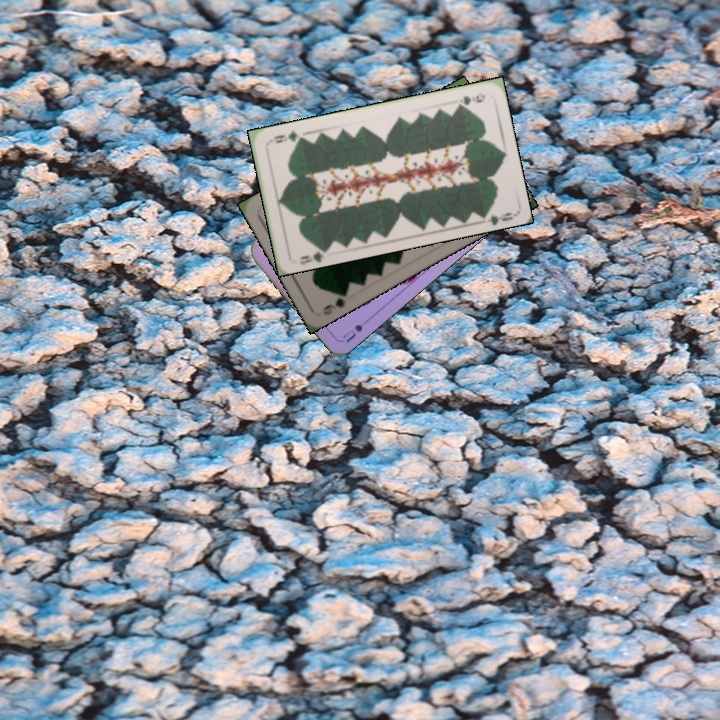G9: (318, 286, 350, 318), (296, 243, 330, 267), (453, 89, 488, 110)
SU: (338, 320, 365, 345)
